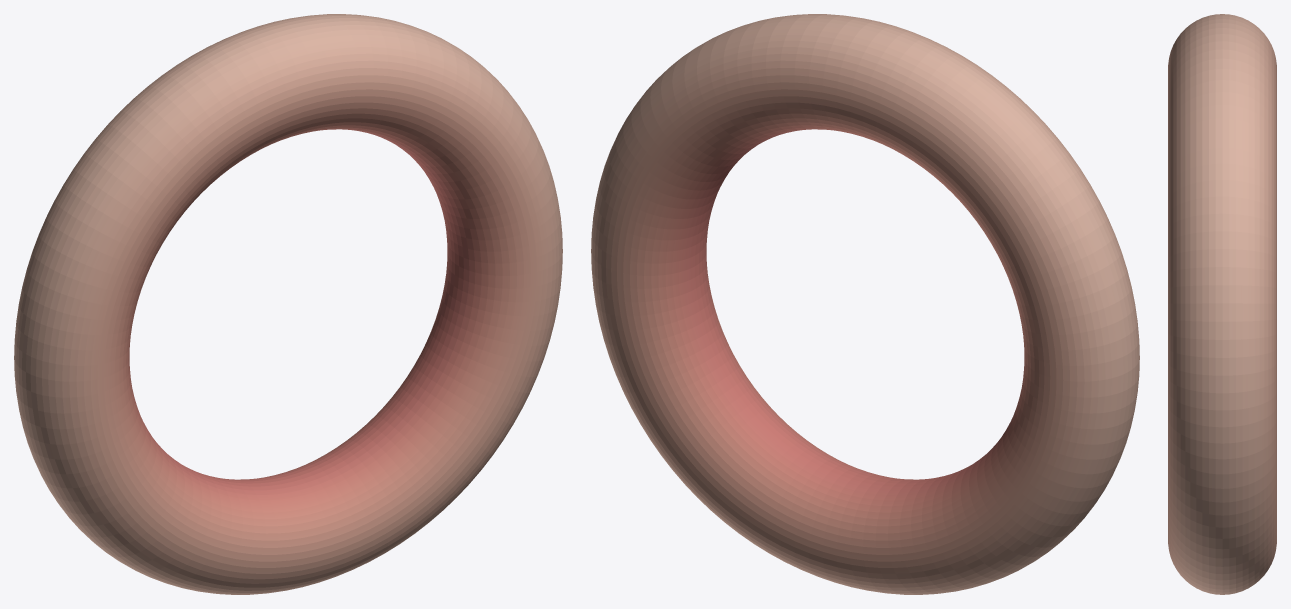
3 renders of one model, left to right at view 1: azimuth 30°, elevation 25°; view 2: azimuth 150°, elevation 25°; view 3: azimuth 270°, elevation 25°, orthographic. The views are drawn at different scales.
Parts seen in each view (by area): view 1: world; view 2: world; view 3: world.
Boxes of the visible parts, x1,y1,x2,y2 form: world: [14, 14, 562, 594]; world: [591, 14, 1139, 594]; world: [1168, 14, 1276, 594].
Bounding box in the file's own units: 32 × 32 × 5.99.
